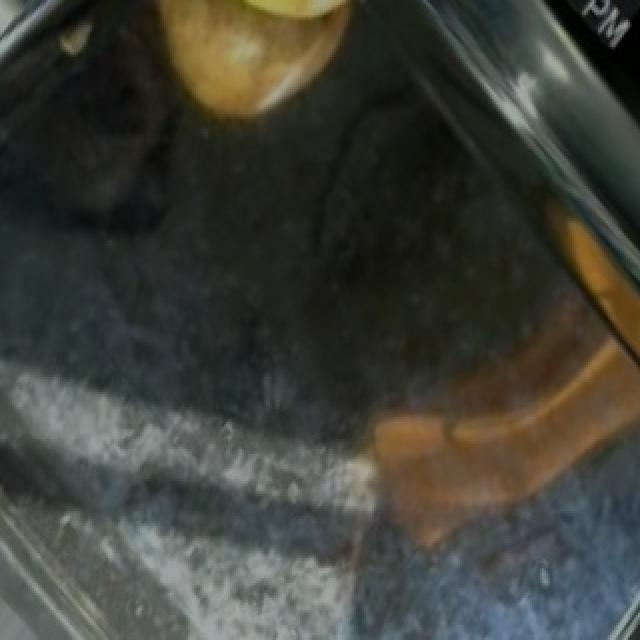fruit: (182, 0, 402, 47)
